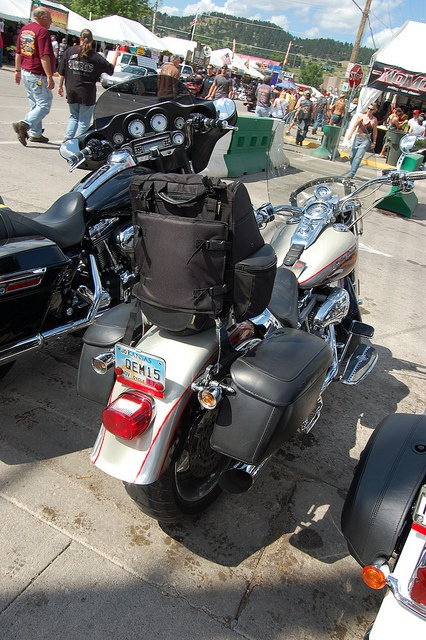non-vehicle: (67, 94, 426, 537), (0, 74, 239, 382), (338, 406, 425, 634)
